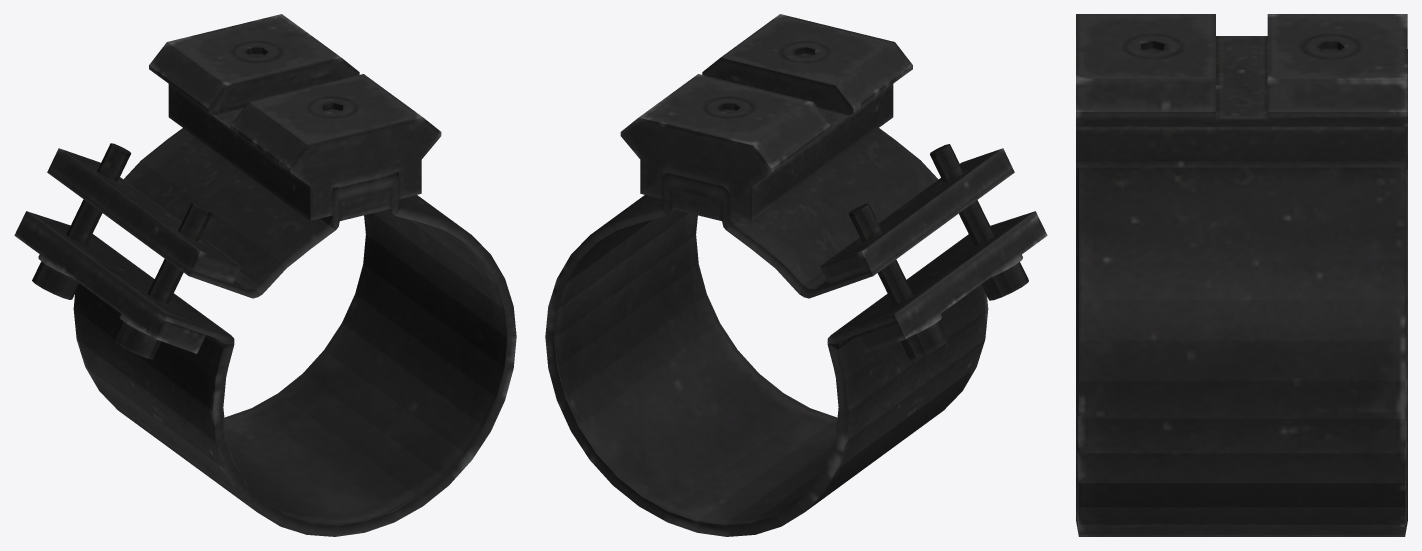
The picture shows the model from 3 angles, left to right: view 1: azimuth 30°, elevation 25°; view 2: azimuth 150°, elevation 25°; view 3: azimuth 270°, elevation 25°; orthographic projection. The views are drawn at different scales.
Parts seen in each view (by area): view 1: TW_57a3459f245977764a01f703_PZ_Import; view 2: TW_57a3459f245977764a01f703_PZ_Import; view 3: TW_57a3459f245977764a01f703_PZ_Import.
Boxes of the visible parts, left/top/right/bottom form: TW_57a3459f245977764a01f703_PZ_Import: left=14, top=14, right=516, bottom=536; TW_57a3459f245977764a01f703_PZ_Import: left=545, top=14, right=1047, bottom=536; TW_57a3459f245977764a01f703_PZ_Import: left=1076, top=14, right=1407, bottom=536.
Bounding box in the file's own units: 0.0302 × 0.02 × 0.0313.
Materials: 1 (1 with a texture image).
